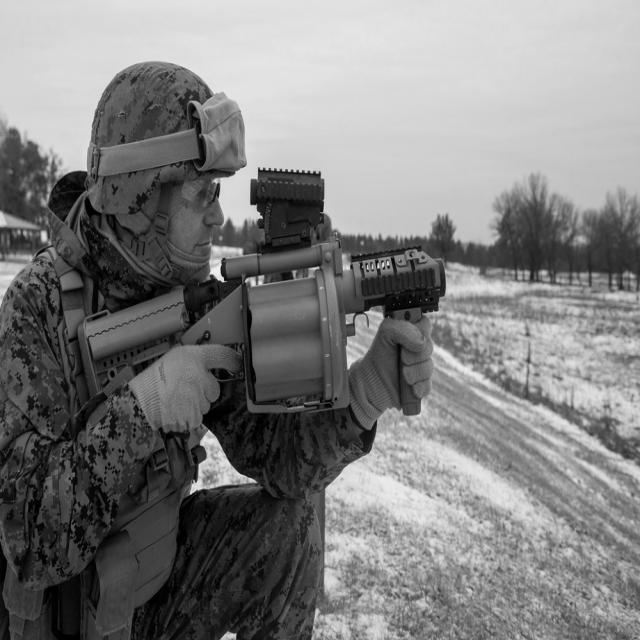Lancher: (80, 198, 461, 439)
